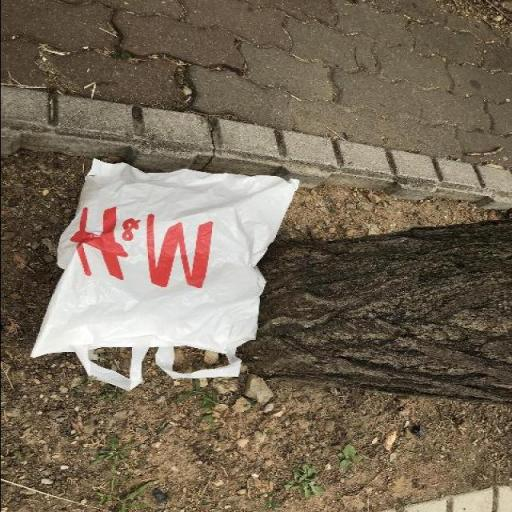plastic-bag: (25, 154, 303, 392)
